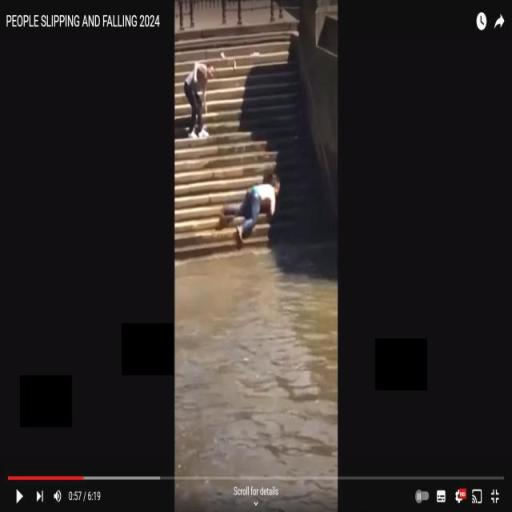Fall: (216, 169, 282, 249)
